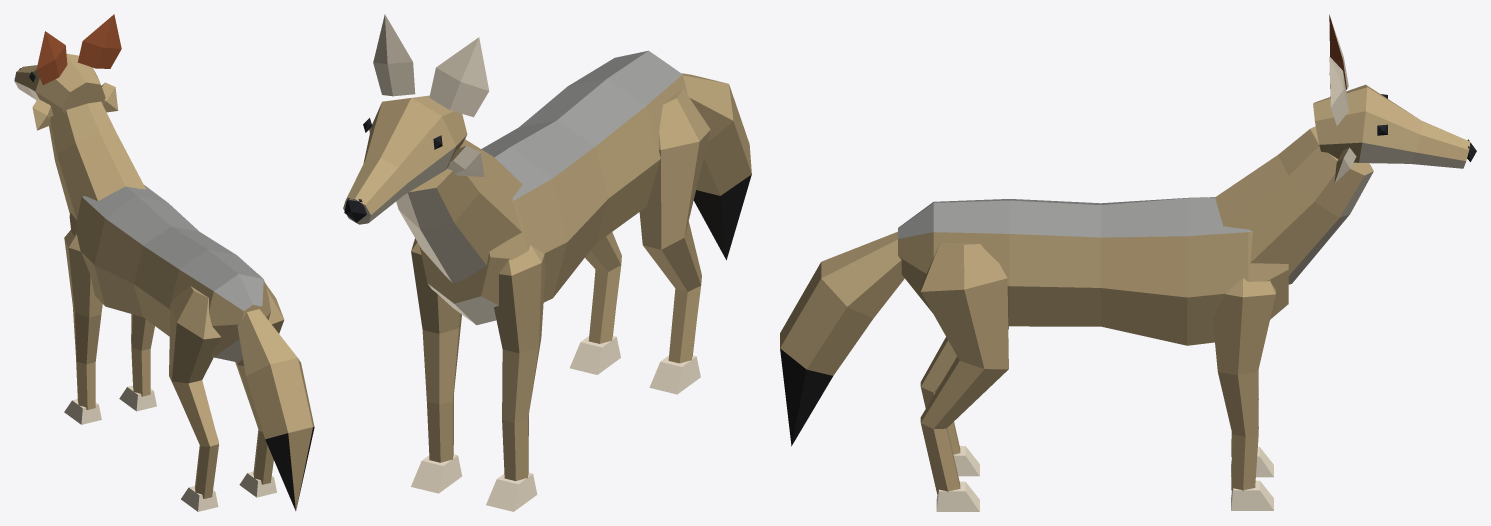
Rendered from coyote.glb.
3 renders of one model, left to right at view 1: azimuth 30°, elevation 25°; view 2: azimuth 150°, elevation 25°; view 3: azimuth 270°, elevation 25°, orthographic. The views are drawn at different scales.
Parts seen in each view (by area): view 1: Body, Head, Tail, Leg_RL, Leg_FL, Leg_RR, Leg_FR; view 2: Body, Head, Leg_RL, Leg_FL, Tail, Leg_FR, Leg_RR; view 3: Body, Head, Leg_RR, Tail, Leg_FR, Leg_RL.
Boxes of the visible parts, box(x1,y1,x2,y2) form: Body: box(69, 185, 270, 362); Head: box(14, 14, 145, 220); Tail: box(237, 309, 314, 510); Leg_RL: box(169, 286, 221, 511); Leg_FL: box(64, 230, 102, 424); Leg_RR: box(235, 274, 284, 497); Leg_FR: box(119, 314, 156, 411); Body: box(419, 50, 687, 325); Head: box(343, 14, 522, 282); Leg_RL: box(639, 88, 710, 394); Leg_FL: box(486, 244, 545, 511); Tail: box(681, 73, 751, 260); Leg_FR: box(411, 238, 462, 493); Leg_RR: box(570, 232, 621, 374); Body: box(898, 197, 1288, 345); Head: box(1215, 14, 1476, 284); Leg_RR: box(920, 243, 1008, 511); Tail: box(780, 231, 904, 446); Leg_FR: box(1212, 278, 1275, 510); Leg_RL: box(920, 326, 1008, 476).
Bounding box in the file's own units: 0.2812 × 0.985 × 1.37.
